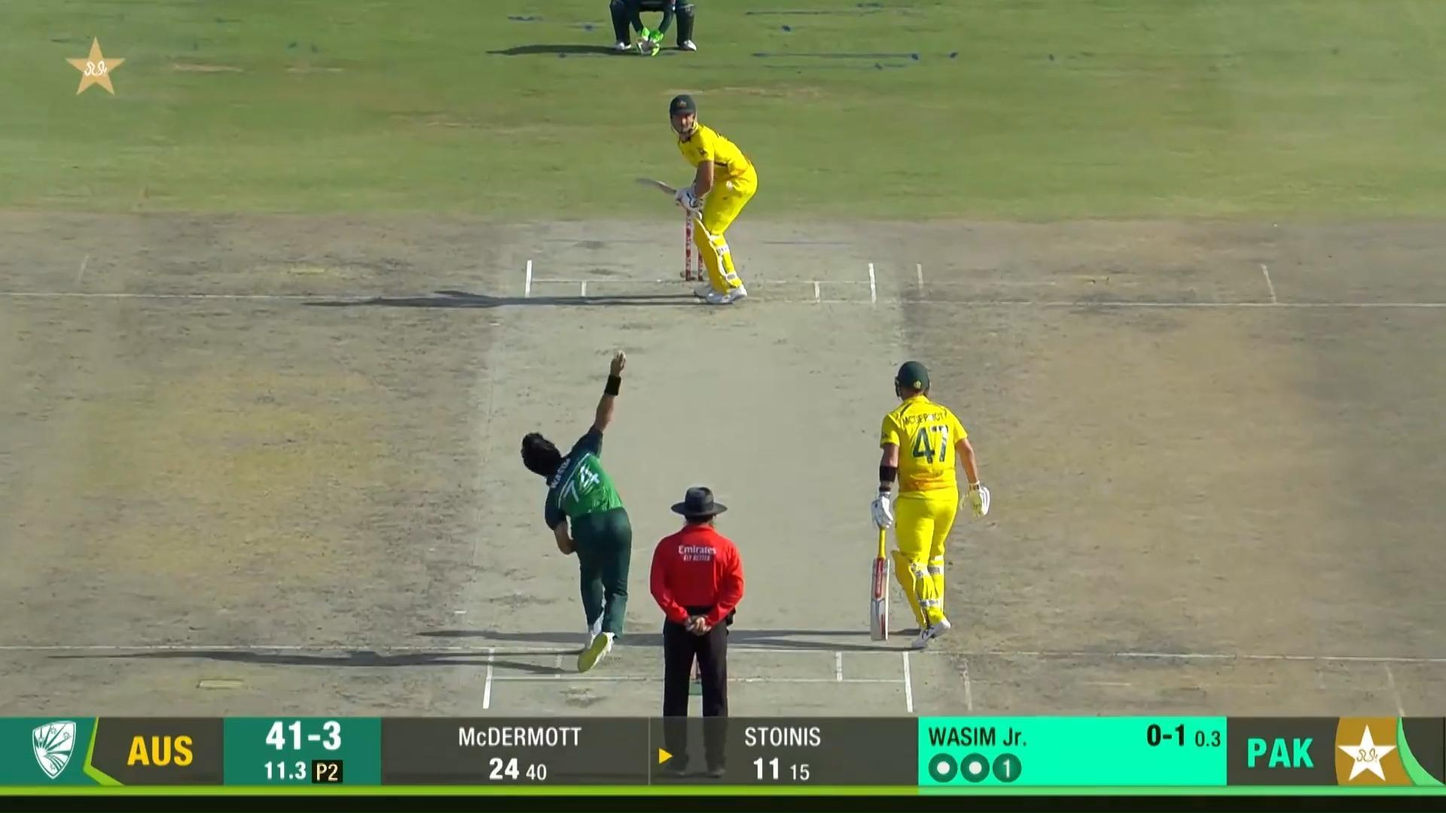BM 1: (632, 92, 759, 306)
BO: (521, 355, 630, 671)
